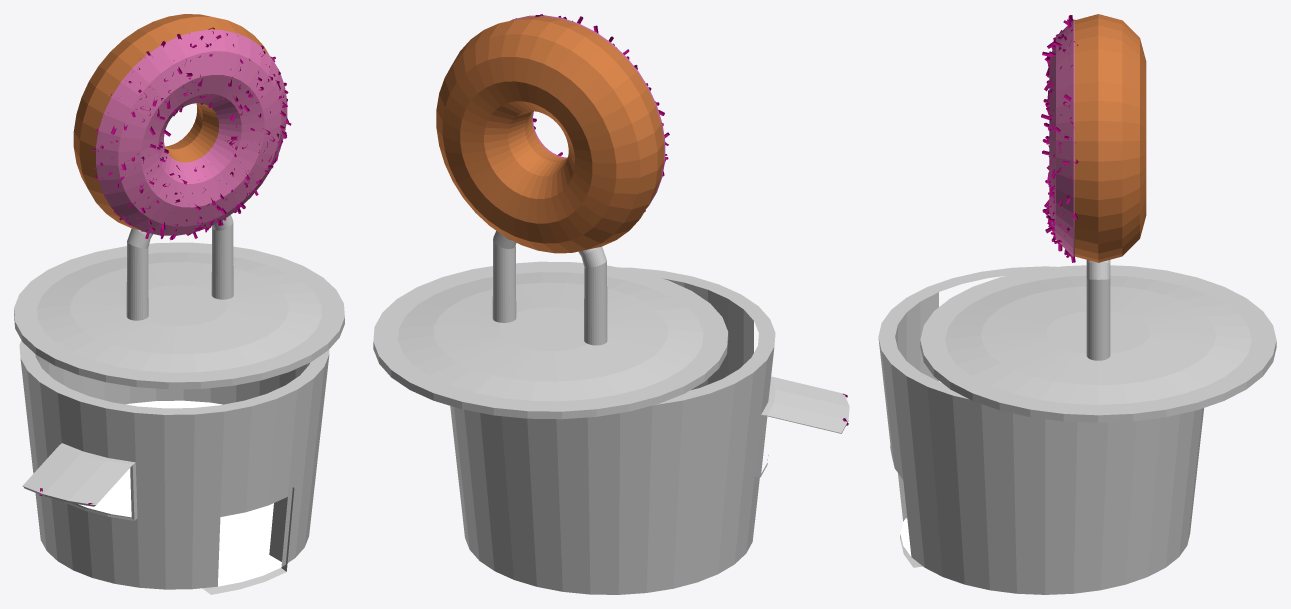
File: donutFactory.glb
3 views of the same model, side by side, from view 1: azimuth 30°, elevation 25°; view 2: azimuth 150°, elevation 25°; view 3: azimuth 270°, elevation 25° (orthographic). The views are drawn at different scales.
Parts seen in each view (by area): view 1: Circle.001; view 2: Circle.001; view 3: Circle.001.
Boxes of the visible parts, box(x1,y1,x2,y2) form: Circle.001: box(14, 14, 344, 594); Circle.001: box(373, 14, 849, 594); Circle.001: box(878, 14, 1276, 594).
Bounding box in the file's own units: 0.7565 × 1 × 0.6789.
